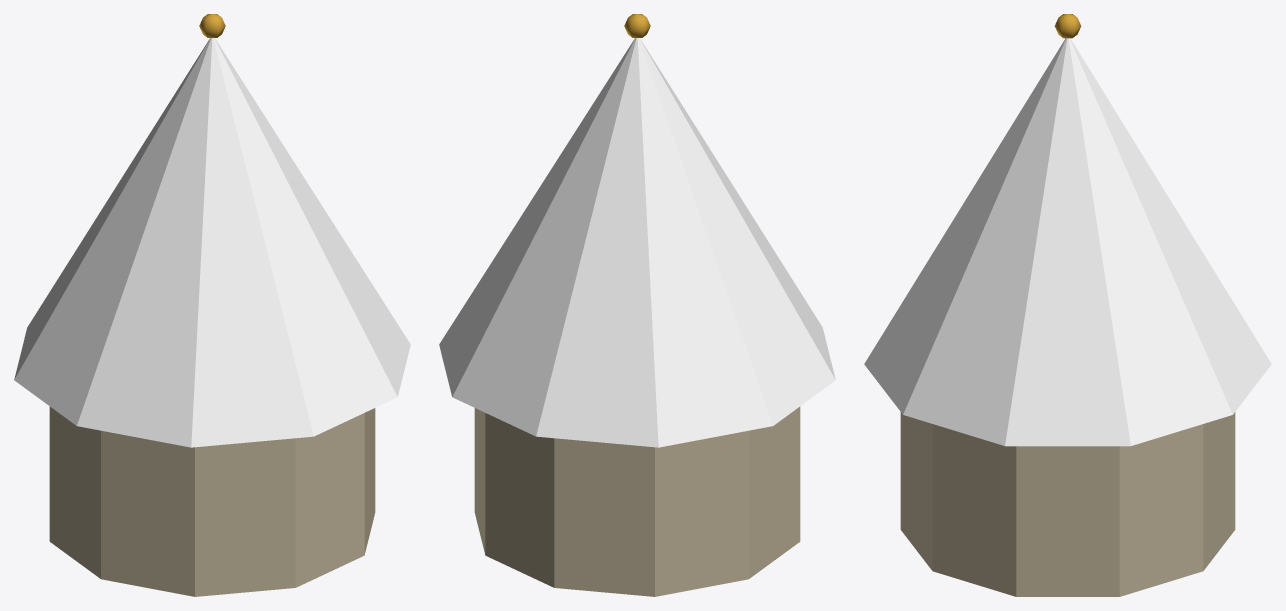
The model's file is castle_tower_roof.glb.
3 views of the same model, side by side, from view 1: azimuth 30°, elevation 25°; view 2: azimuth 150°, elevation 25°; view 3: azimuth 270°, elevation 25° (orthographic).
Visible parts, largest first — view 1: castle_tower_roof; view 2: castle_tower_roof; view 3: castle_tower_roof.
Part boxes in pixels (x1,y1,x2,y2): castle_tower_roof: [14, 14, 410, 596]; castle_tower_roof: [439, 14, 835, 596]; castle_tower_roof: [864, 14, 1271, 596].
Bounding box in the file's own units: 6.37 × 9.35 × 6.7.
